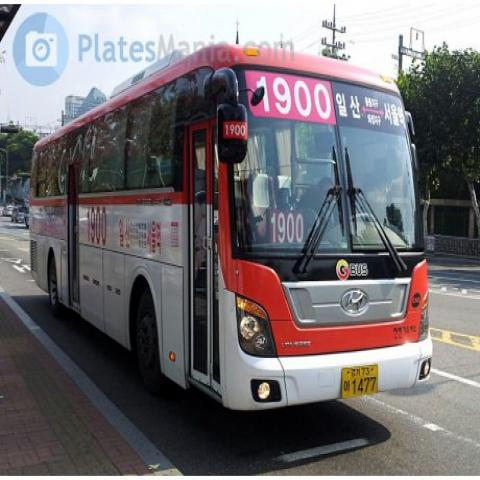LP: (334, 361, 387, 405)
